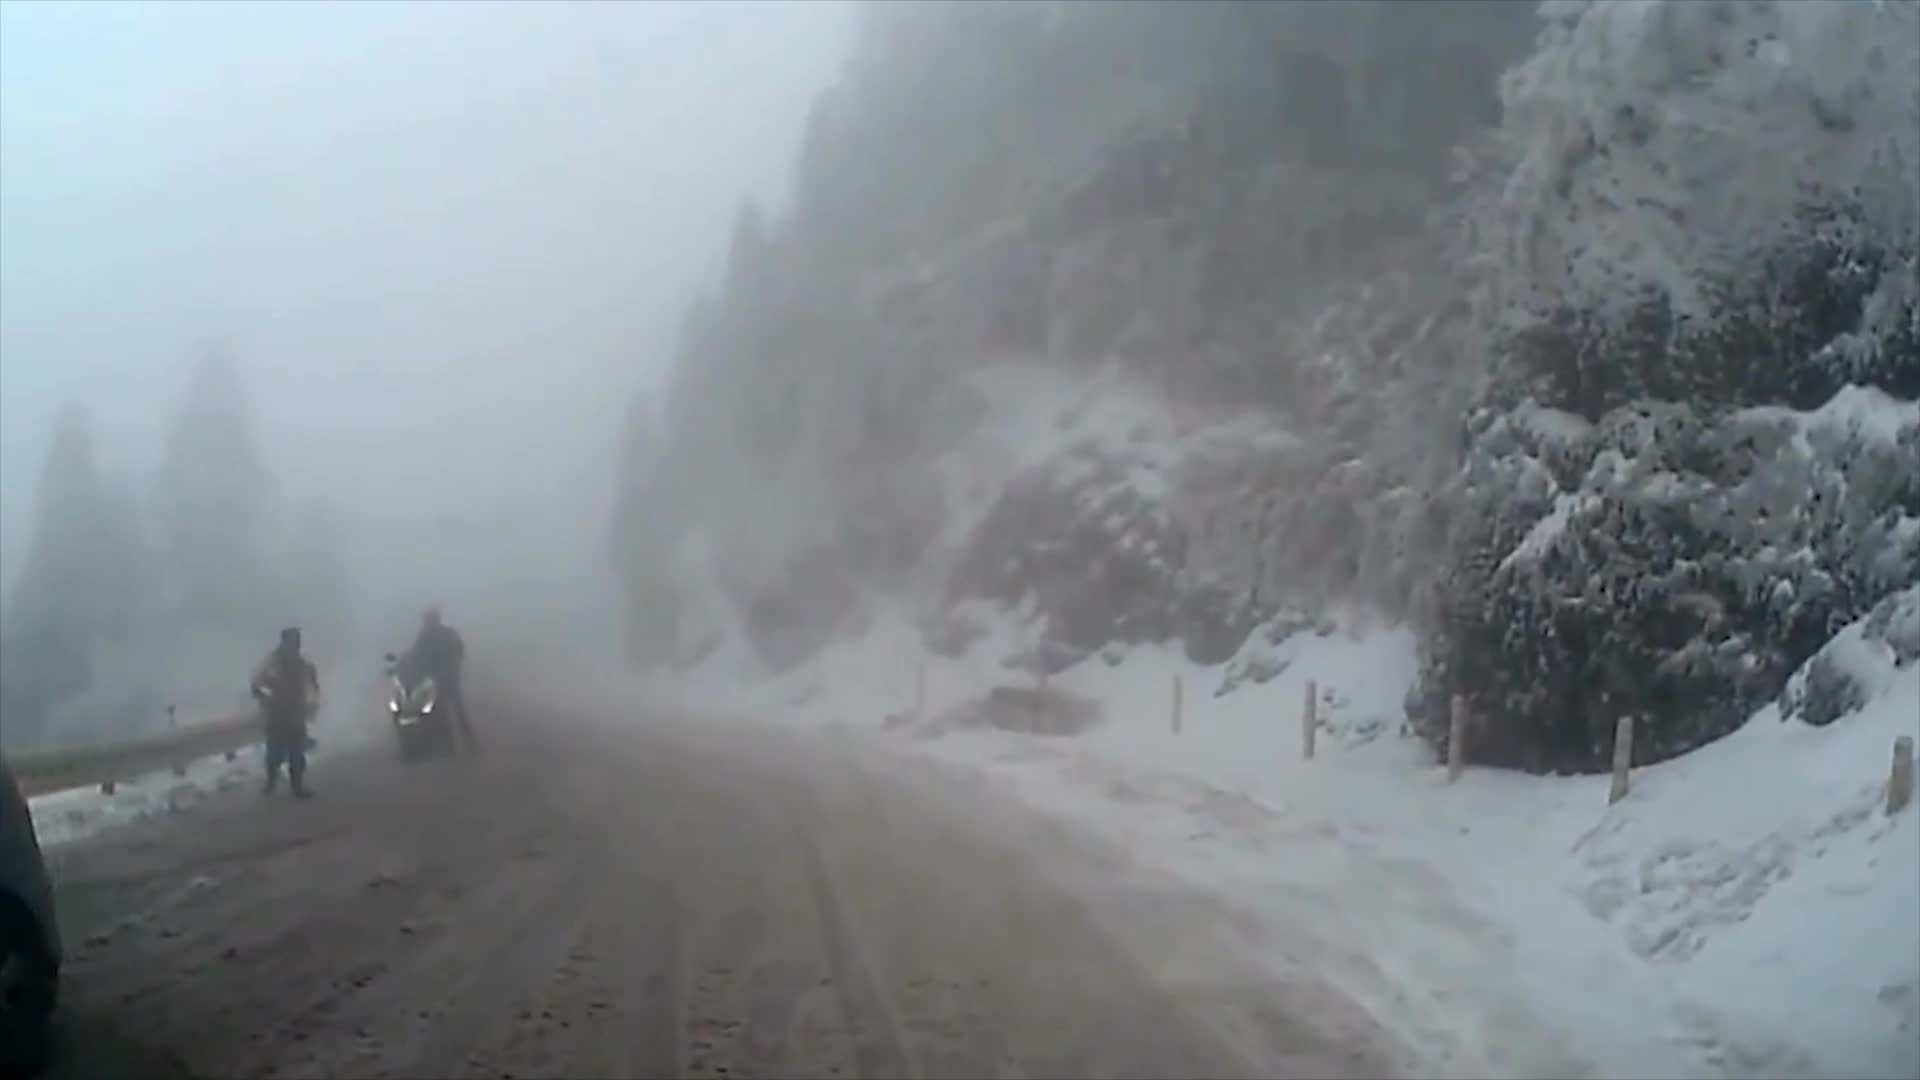pedestrian: (248, 630, 322, 803), (399, 603, 480, 760)
vehicle: (0, 764, 64, 1073)
